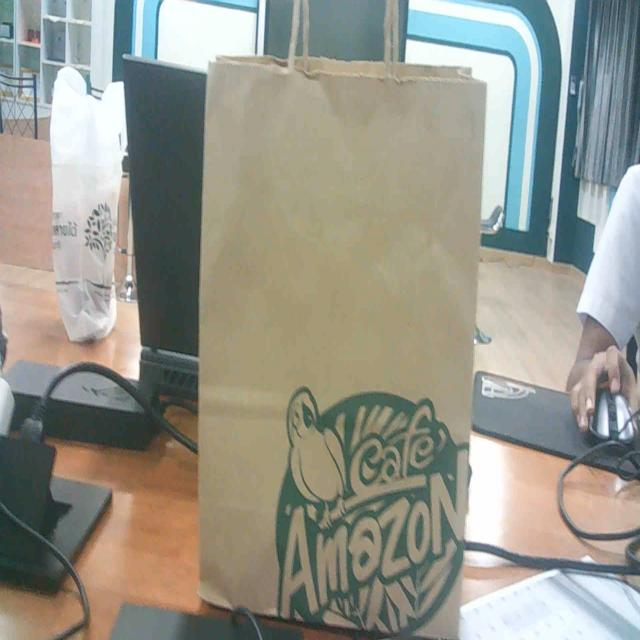bag: (187, 20, 499, 640)
